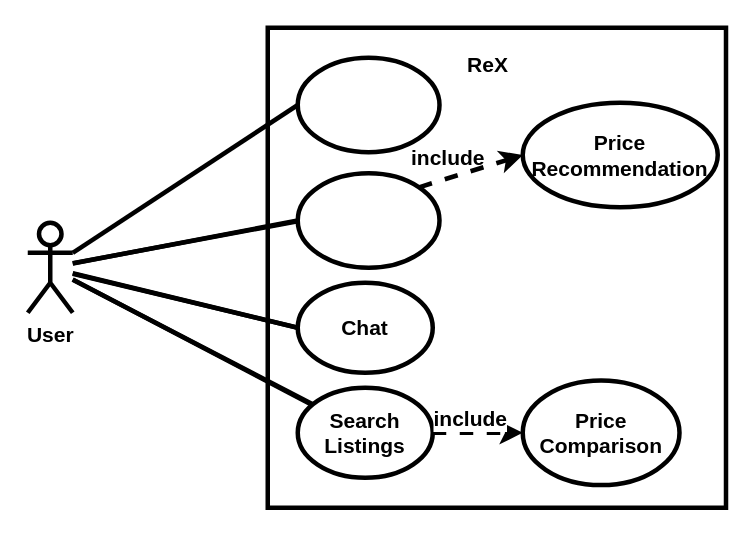
This 755x536 diagram has some shape labels left out. Each missing label, with the centre of its shape:
"Post Listings" belongs at point 368,219.
"Register & Login" belongs at point 368,104.
